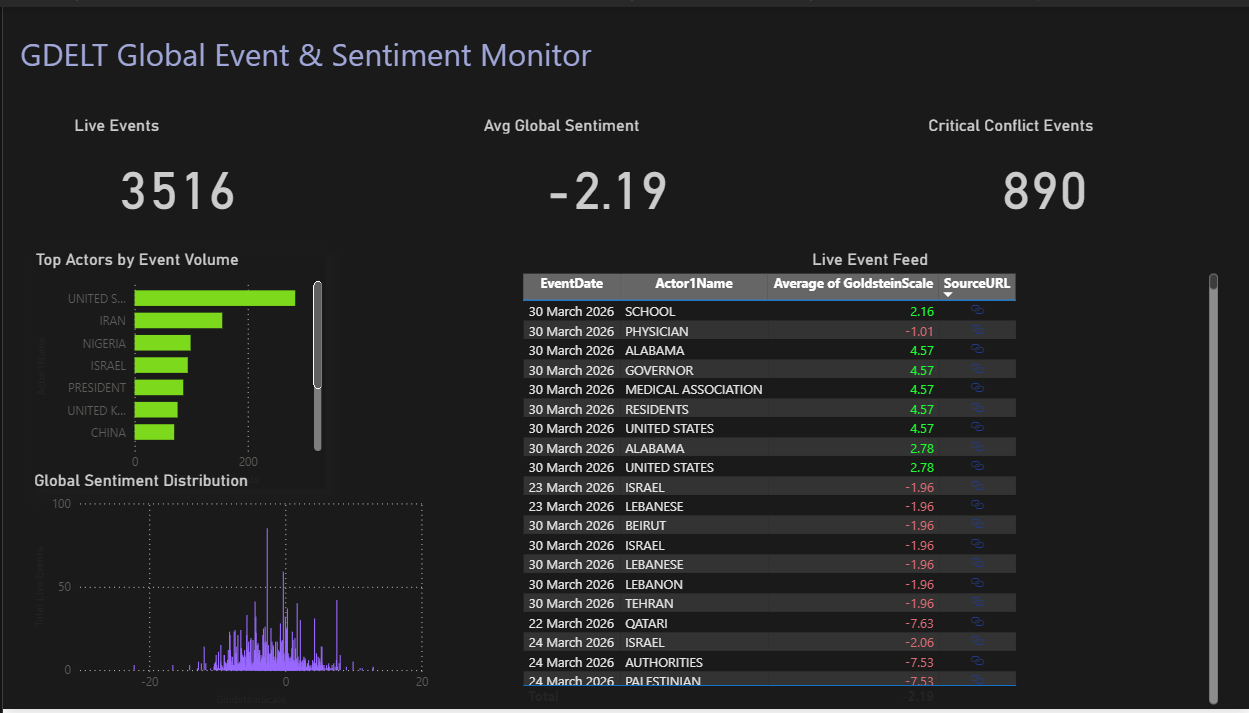

What the dashboard file says about the page in this screenshot:
{"tool":"powerbi","page":{"name":"Page 1","canvas":[1280,720],"ordinal":0},"visuals":[{"type":"card","title":"Live Events ","fields":{"Values":["gdelt_live_events.Total Live Events"]},"box":[68.3,111.7,221.7,120],"z":0},{"type":"card","title":"Avg Global Sentiment","fields":{"Values":["gdelt_live_events.Avg Global Sentiment"]},"box":[488.3,111.7,261.7,120],"z":1000},{"type":"card","title":"Critical Conflict Events","fields":{"Values":["gdelt_live_events.Critical Conflict Events"]},"box":[945,111.7,248.3,120],"z":2000},{"type":"clusteredBarChart","title":"Top Actors by Event Volume","fields":{"Category":["gdelt_live_events.Actor1Name"],"Y":["gdelt_live_events.Total Live Events"]},"box":[28.3,250,303.3,245],"z":3000},{"type":"clusteredColumnChart","title":"Global Sentiment Distribution","fields":{"Category":["gdelt_live_events.GoldsteinScale"],"Y":["gdelt_live_events.Total Live Events"]},"box":[26.7,475,415,245],"z":4000},{"type":"tableEx","title":"Live Event Feed","fields":{"Values":["gdelt_live_events.EventDate","gdelt_live_events.Actor1Name","Avg(gdelt_live_events.GoldsteinScale)","gdelt_live_events.SourceURL"]},"box":[528.1,249.7,723.7,470.8],"z":5000},{"type":"textbox","box":[13.3,20,635,91.7],"z":6000}]}

Visuals, with their boxes in screenshot pixels (x1, y1, x2, y2), scaled from the page's 1280x720 canvas onto the 1249x713 screenshot:
"Live Events " card: select_region(67, 111, 283, 229)
"Avg Global Sentiment" card: select_region(476, 111, 732, 229)
"Critical Conflict Events" card: select_region(922, 111, 1164, 229)
"Top Actors by Event Volume" clusteredBarChart: select_region(28, 248, 324, 490)
"Global Sentiment Distribution" clusteredColumnChart: select_region(26, 470, 431, 712)
"Live Event Feed" tableEx: select_region(515, 247, 1221, 712)
textbox: select_region(13, 20, 633, 111)
